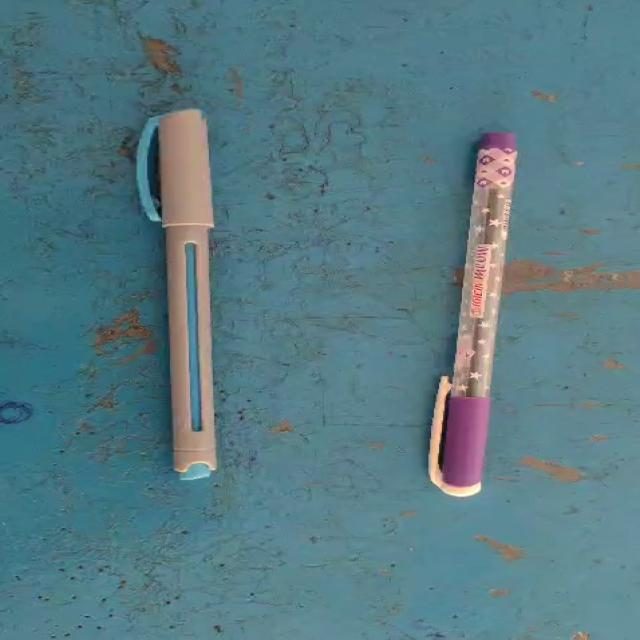pen: (92, 54, 321, 524), (396, 115, 559, 512)
